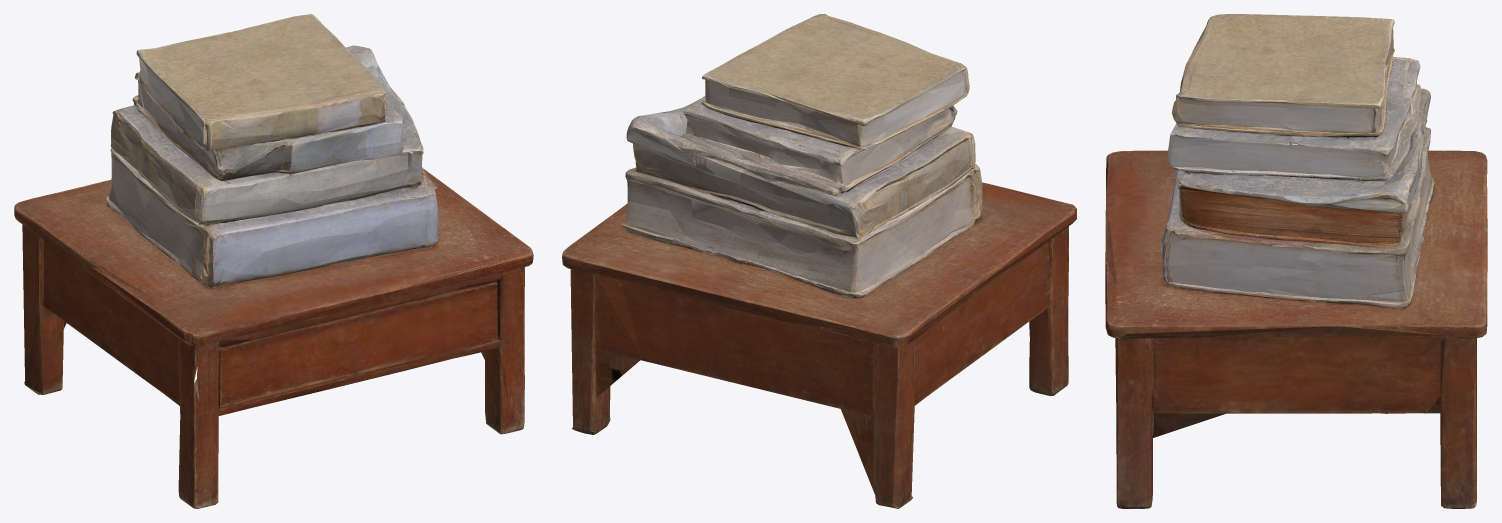
The model's file is w3hbooktable.glb.
3 renders of one model, left to right at view 1: azimuth 30°, elevation 25°; view 2: azimuth 150°, elevation 25°; view 3: azimuth 270°, elevation 25°, orthographic. The views are drawn at different scales.
Parts seen in each view (by area): view 1: output_unwrapped; view 2: output_unwrapped; view 3: output_unwrapped.
Part boxes in pixels (bbox=[...]): output_unwrapped: bbox=[14, 14, 533, 508]; output_unwrapped: bbox=[562, 14, 1076, 508]; output_unwrapped: bbox=[1105, 14, 1487, 508].
Size of the model in its own units: 0.6 by 0.5711 by 0.5471.
1 material, 1 textured.
